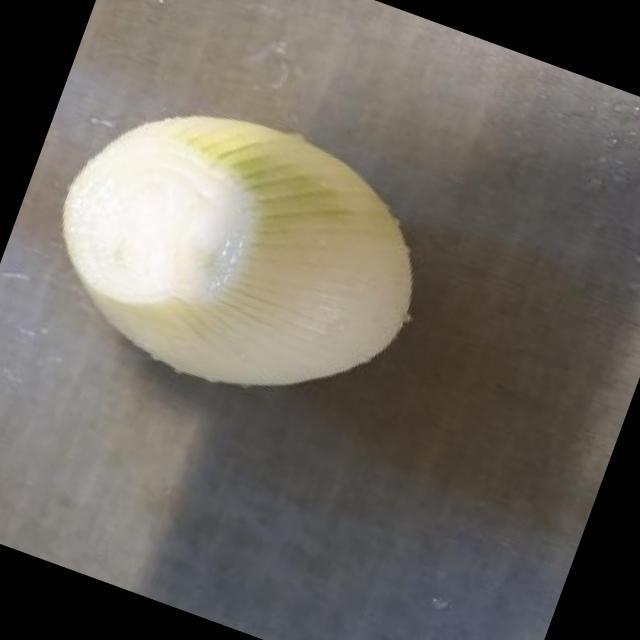Onion: (59, 112, 407, 391)
